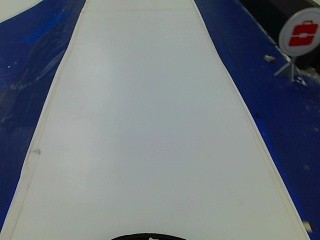company: (277, 8, 320, 55)
